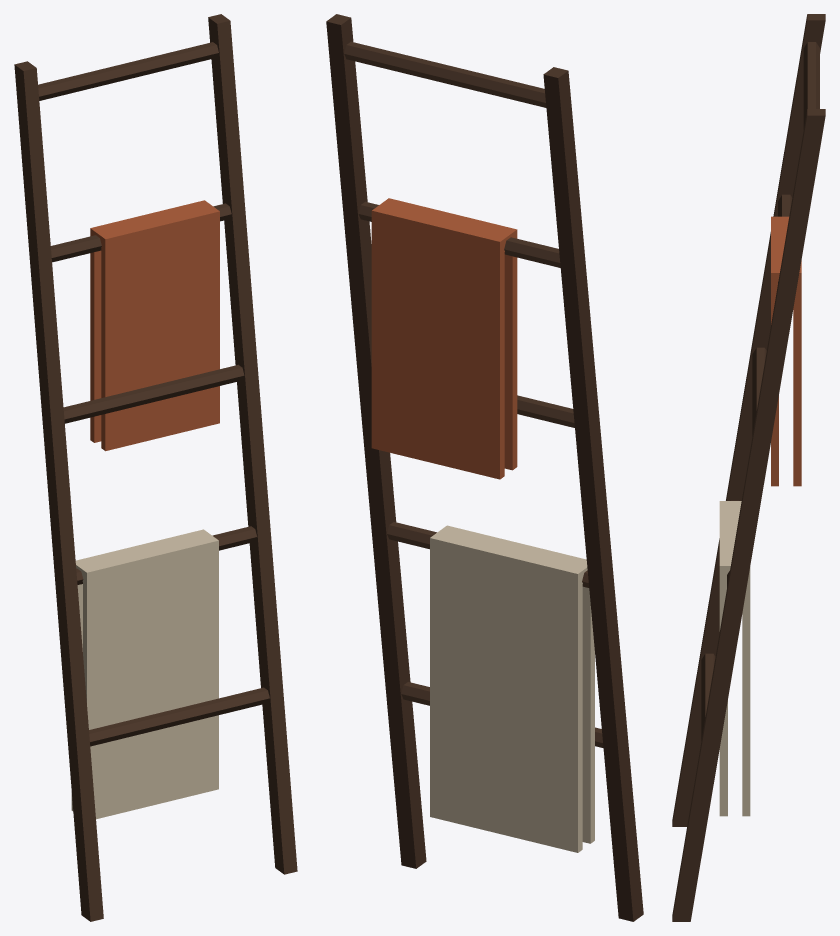
The model's file is FN_Ladder_Blanket.glb.
The picture shows the model from 3 angles, left to right: view 1: azimuth 30°, elevation 25°; view 2: azimuth 150°, elevation 25°; view 3: azimuth 270°, elevation 25°; orthographic projection. The views are drawn at different scales.
Parts seen in each view (by area): view 1: FN_Ladder_Blanket; view 2: FN_Ladder_Blanket; view 3: FN_Ladder_Blanket.
Part boxes in pixels (box(x1,y1,x2,y2)): FN_Ladder_Blanket: box(14, 14, 297, 921); FN_Ladder_Blanket: box(326, 14, 643, 921); FN_Ladder_Blanket: box(672, 14, 825, 921).
Size of the model in its own units: 0.47 by 1.74 by 0.3.
1 material, 1 textured.
